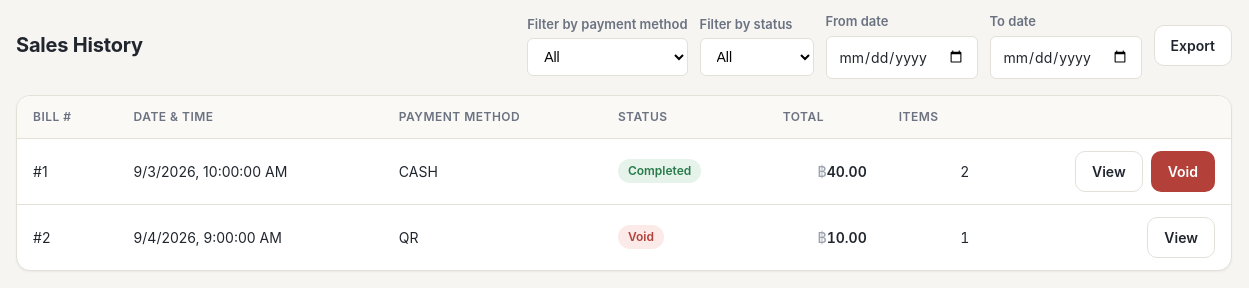
Scenario: SalesHistoryPage › filters by date range
Check: the text "#1" is shown, box [17,138,118,204]
Type "2026-09-04" into the date field labelled "From date" at x=902, y=57, box [826,36,978,78]
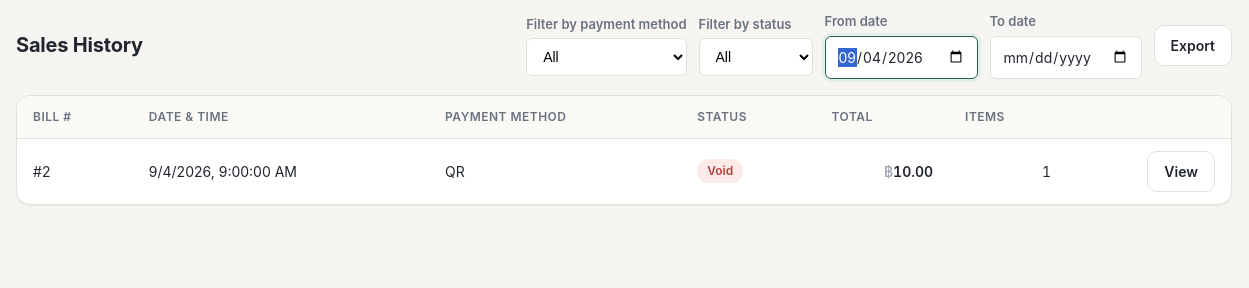
Check: the text "#2" is shown, box [17,138,133,204]
Check: the text "#1" is gone
